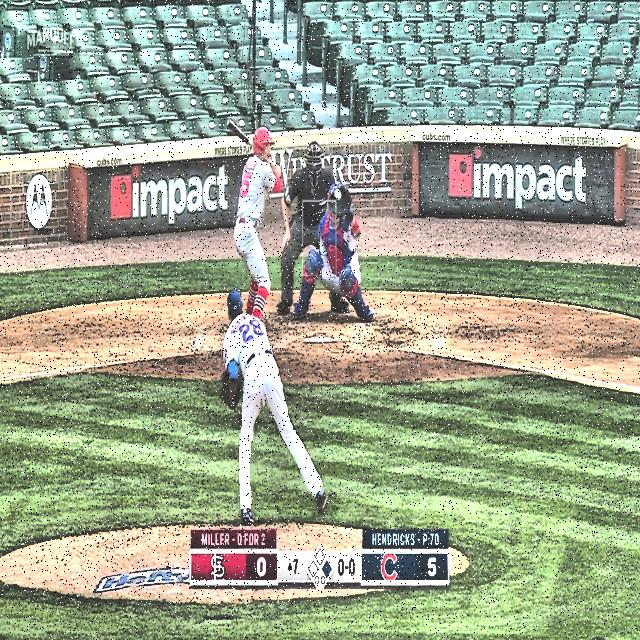baseball: (333, 187, 342, 202)
